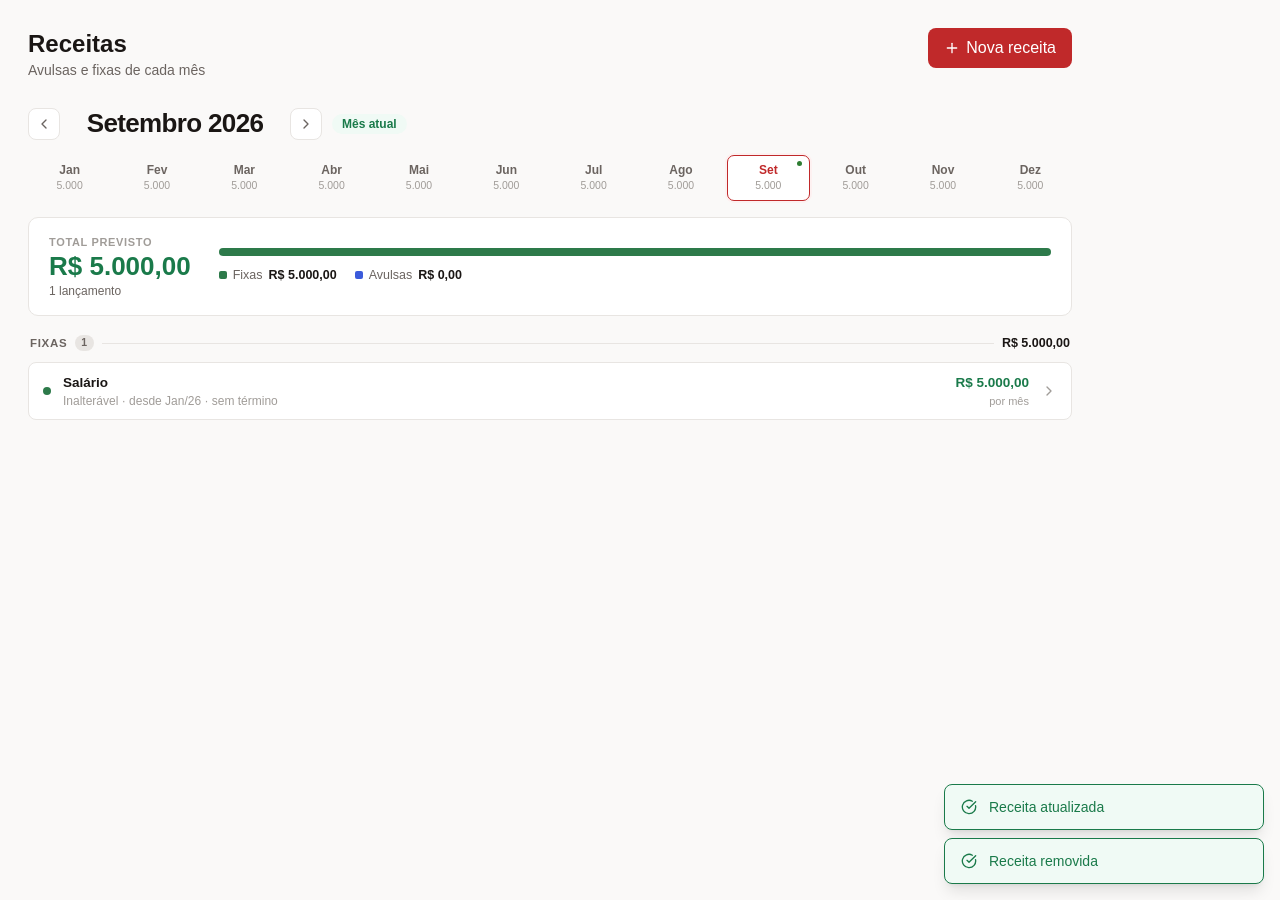
Test case: página de receitas: Ficha de fixa › fixa inalterável não oferece Nova versão e mostra a nota
Click the button "Salário": (86, 382) top-left (28, 362), bottom-right (1072, 420)
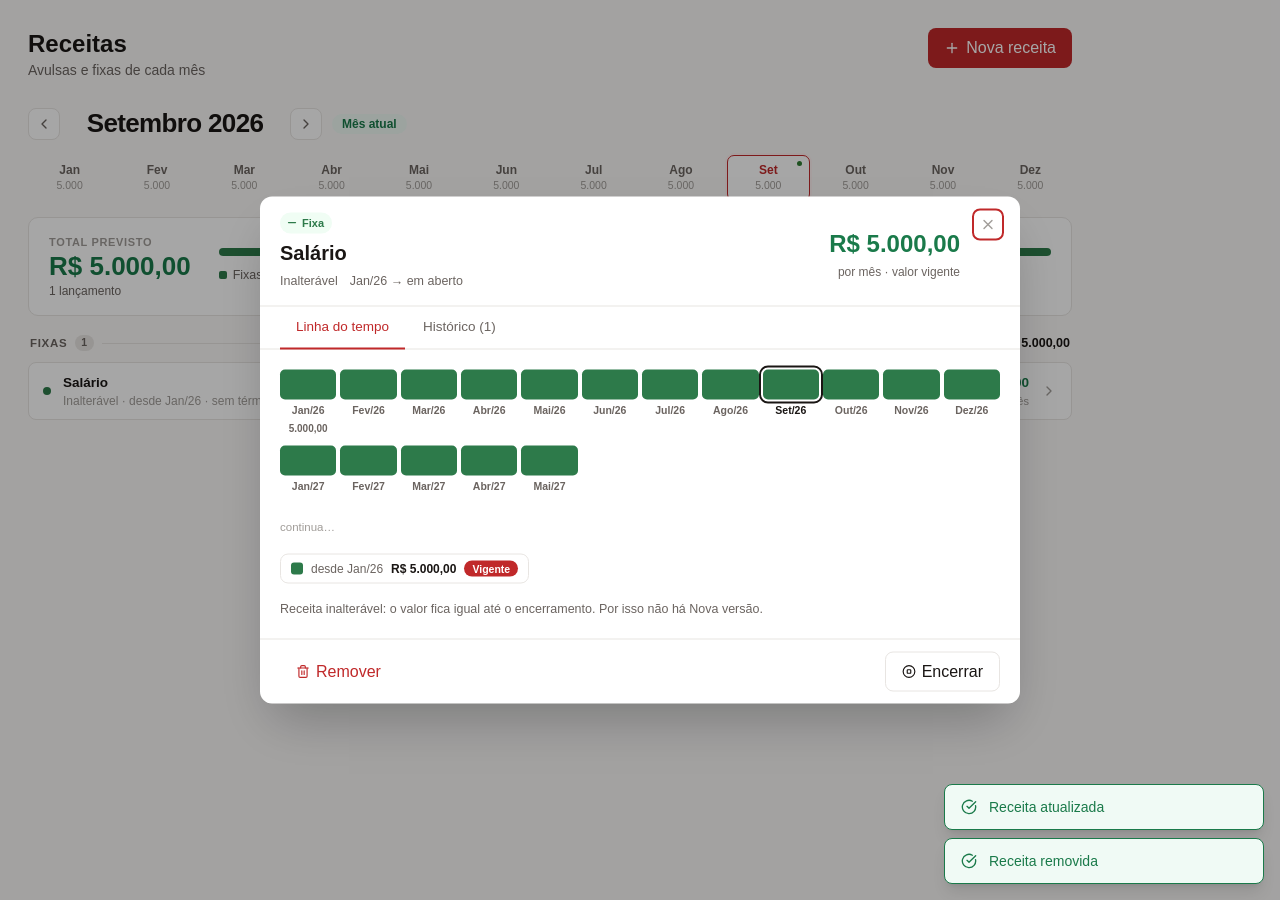
expect the tab "Linha do tempo" is shown: met, box top-left (280, 307), bottom-right (405, 349)
expect the button "Encerrar" is shown: met, box top-left (885, 652), bottom-right (1000, 692)
expect the text "Receita inalterável: o valor fica igual até o encerramento. Por isso não há Nova versão." is shown: met, box top-left (280, 602), bottom-right (763, 616)
